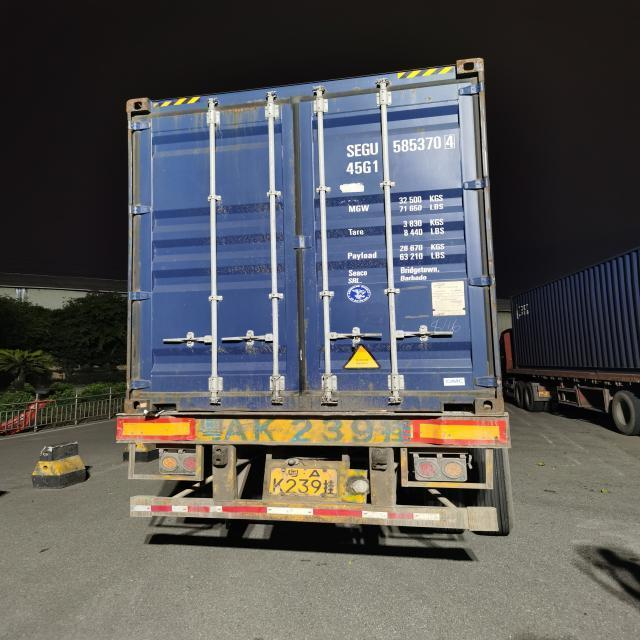ISO: (348, 160, 380, 177)
container_number: (348, 136, 454, 157)
